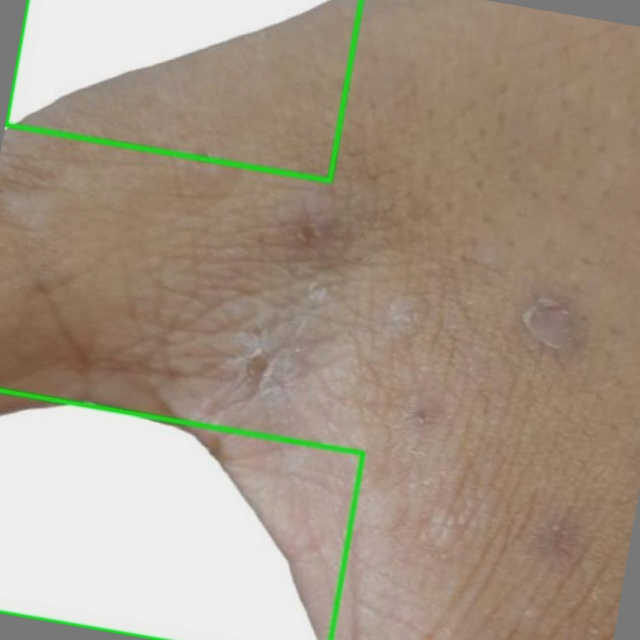Scabies: (0, 390, 363, 639), (6, 0, 361, 180)
